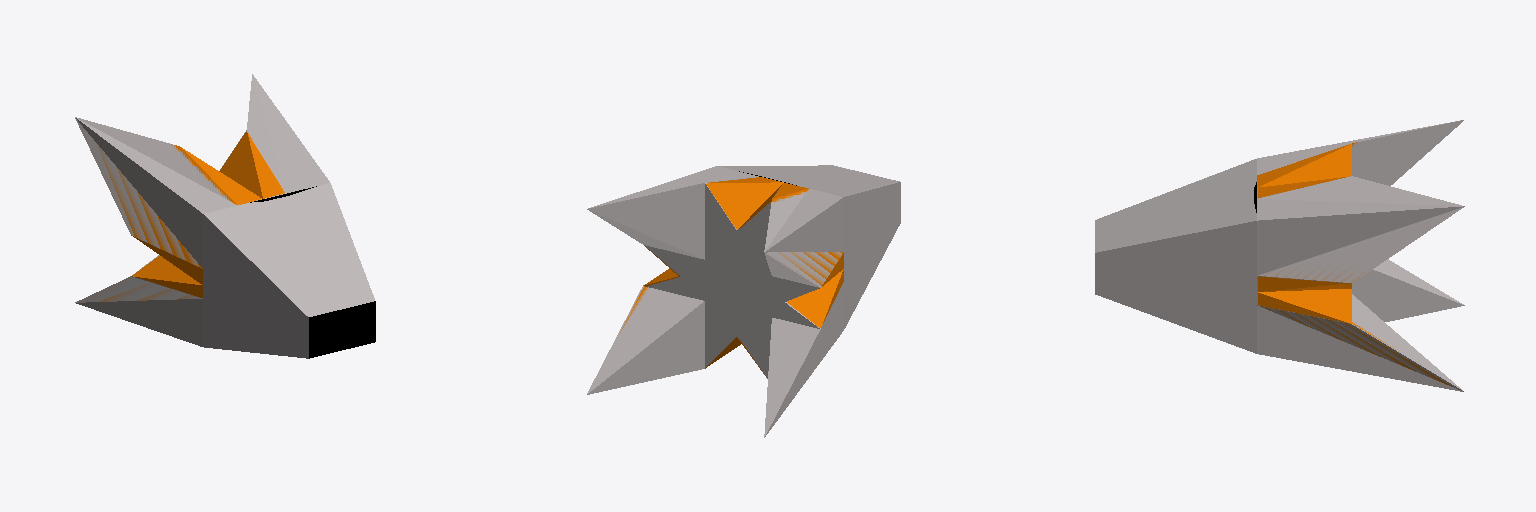
The picture shows the model from 3 angles: view 1: azimuth 30°, elevation 25°; view 2: azimuth 150°, elevation 25°; view 3: azimuth 270°, elevation 25°; orthographic projection.
Bounding box in the file's own units: 2.93 × 2.93 × 5.29.
1 materials, 1 textured.